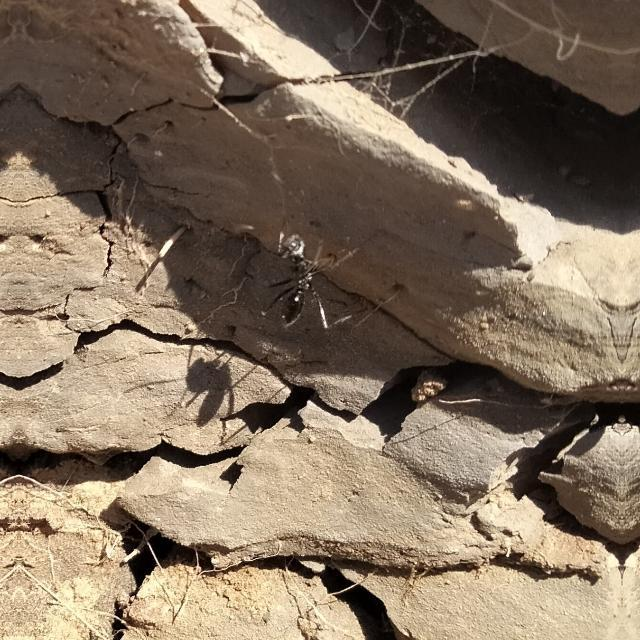Cataglyphis: (264, 223, 332, 331)
